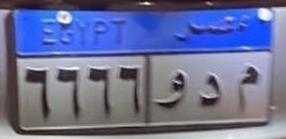6: (54, 64, 84, 125), (22, 64, 51, 121), (86, 63, 113, 117), (117, 62, 142, 116)
daal: (195, 71, 223, 111)
meem: (233, 63, 262, 119)
waw: (151, 68, 187, 111)
